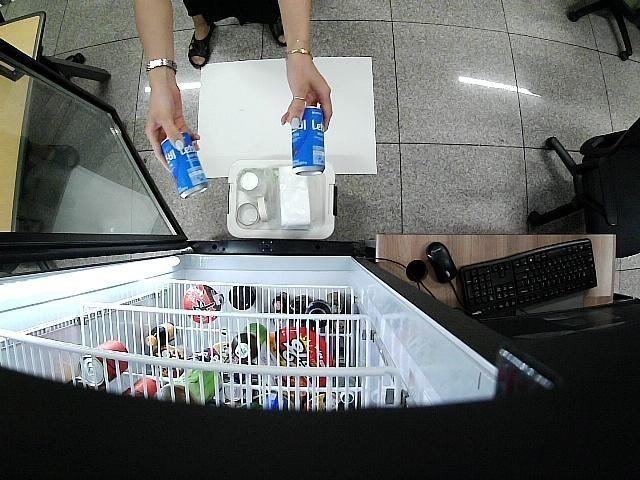15_letsbe: (158, 130, 208, 200), (290, 105, 326, 174)
